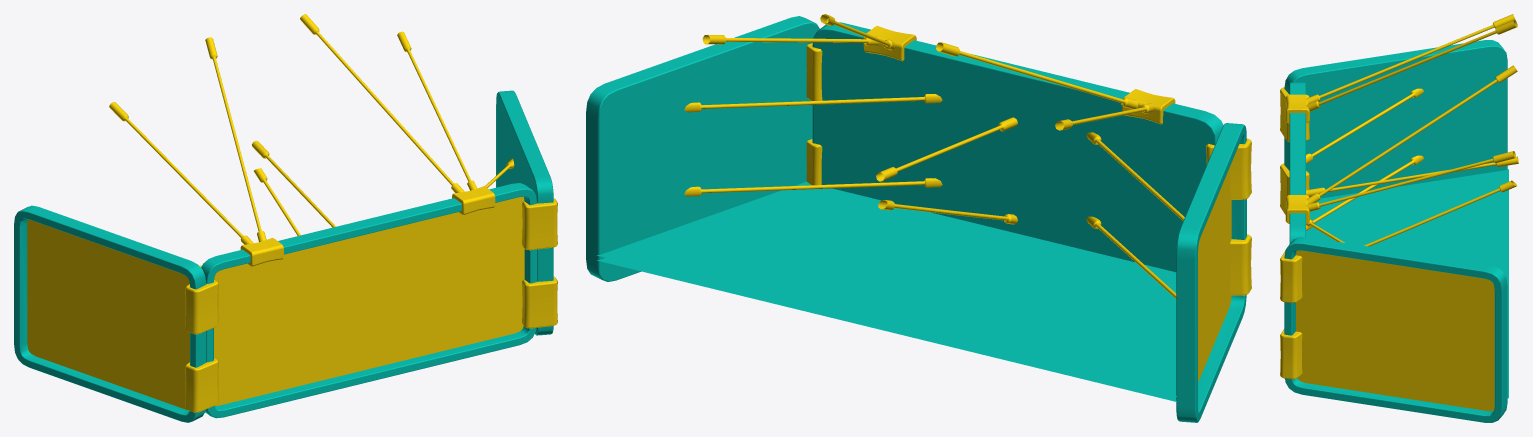
Rendered from SignShop_Metal_01.FBX.
3 views of the same model, side by side, from view 1: azimuth 30°, elevation 25°; view 2: azimuth 150°, elevation 25°; view 3: azimuth 270°, elevation 25° (orthographic). The views are drawn at different scales.
Visible parts, largest first — view 1: SignShop_Metal_01_LOD0; view 2: SignShop_Metal_01_LOD0; view 3: SignShop_Metal_01_LOD0.
Boxes of the visible parts, box(x1,y1,x2,y2) form: SignShop_Metal_01_LOD0: box(14, 14, 557, 422); SignShop_Metal_01_LOD0: box(586, 14, 1251, 422); SignShop_Metal_01_LOD0: box(1280, 14, 1518, 422).
Size of the model in its own units: 514 by 268 by 219.
